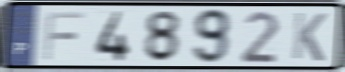2: (240, 9, 282, 65)
4: (92, 9, 131, 63)
8: (143, 9, 182, 63)
9: (190, 7, 231, 66)
F: (40, 10, 86, 62)
K: (290, 10, 329, 63)
